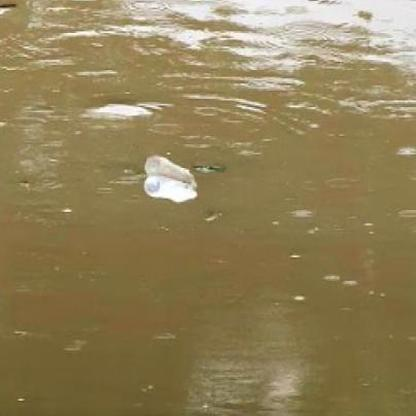plastic bottle: (144, 175, 197, 202)
